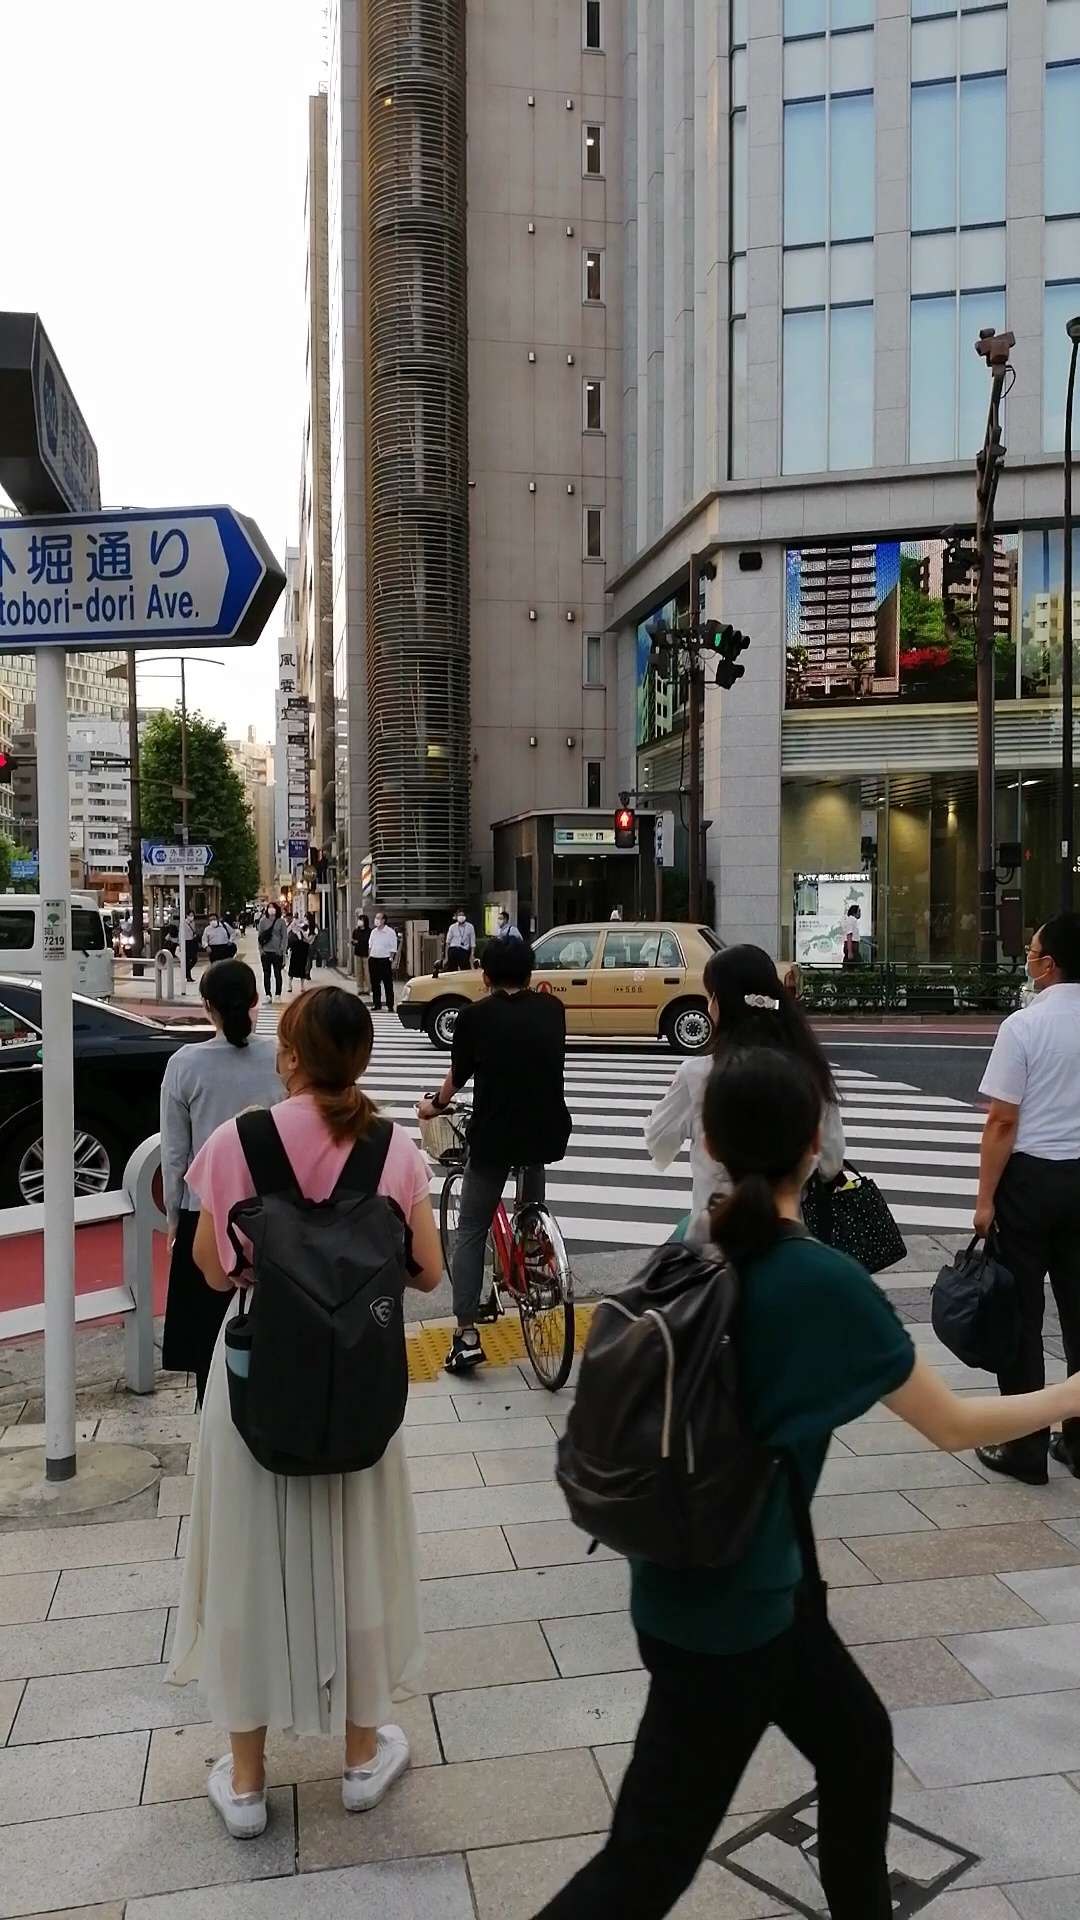red: (613, 804, 637, 851)
